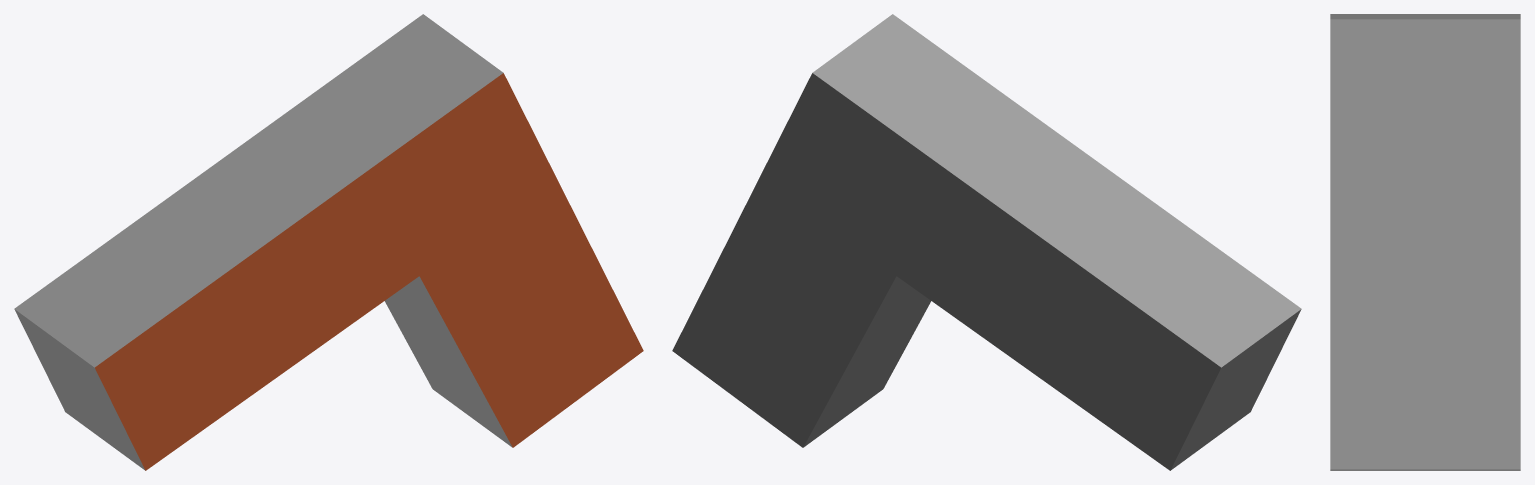
Rendered from construction_5558_assumed_A_Casa_h6m.obj.
The picture shows the model from 3 angles, left to right: view 1: azimuth 30°, elevation 25°; view 2: azimuth 150°, elevation 25°; view 3: azimuth 270°, elevation 25°; orthographic projection. The views are drawn at different scales.
Visible parts, largest first — view 1: construction_5558_assumed_A_Casa; view 2: construction_5558_assumed_A_Casa; view 3: construction_5558_assumed_A_Casa.
Boxes of the visible parts, bbox=[...] form: construction_5558_assumed_A_Casa: bbox=[14, 14, 643, 470]; construction_5558_assumed_A_Casa: bbox=[672, 14, 1301, 470]; construction_5558_assumed_A_Casa: bbox=[1330, 14, 1520, 470].
Size of the model in its own units: 23.66 by 15.54 by 6.
